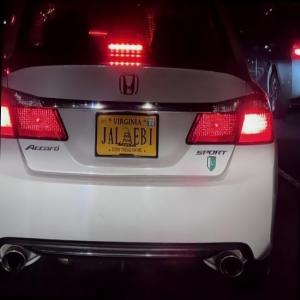Plate: (94, 111, 159, 158)
